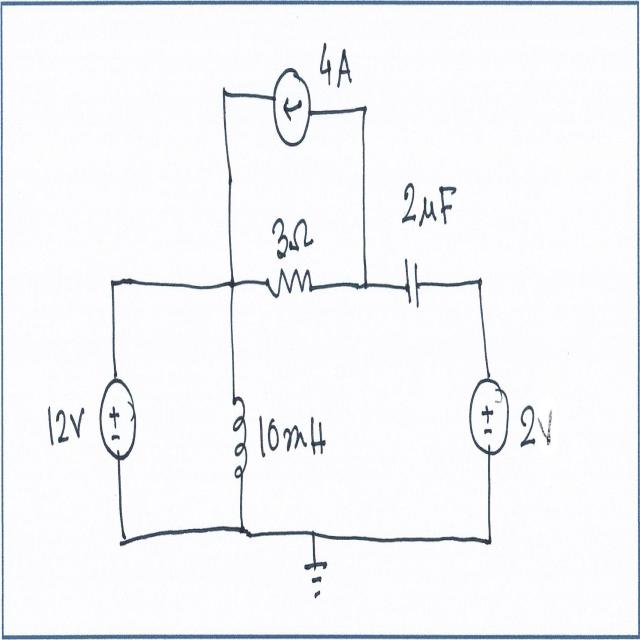capacitor: (401, 246, 424, 316)
current_source: (268, 55, 316, 155)
ground: (301, 550, 332, 604)
inductor: (229, 378, 251, 492)
resistor: (262, 258, 318, 302)
voltage_source: (467, 363, 511, 466), (97, 366, 139, 469)
